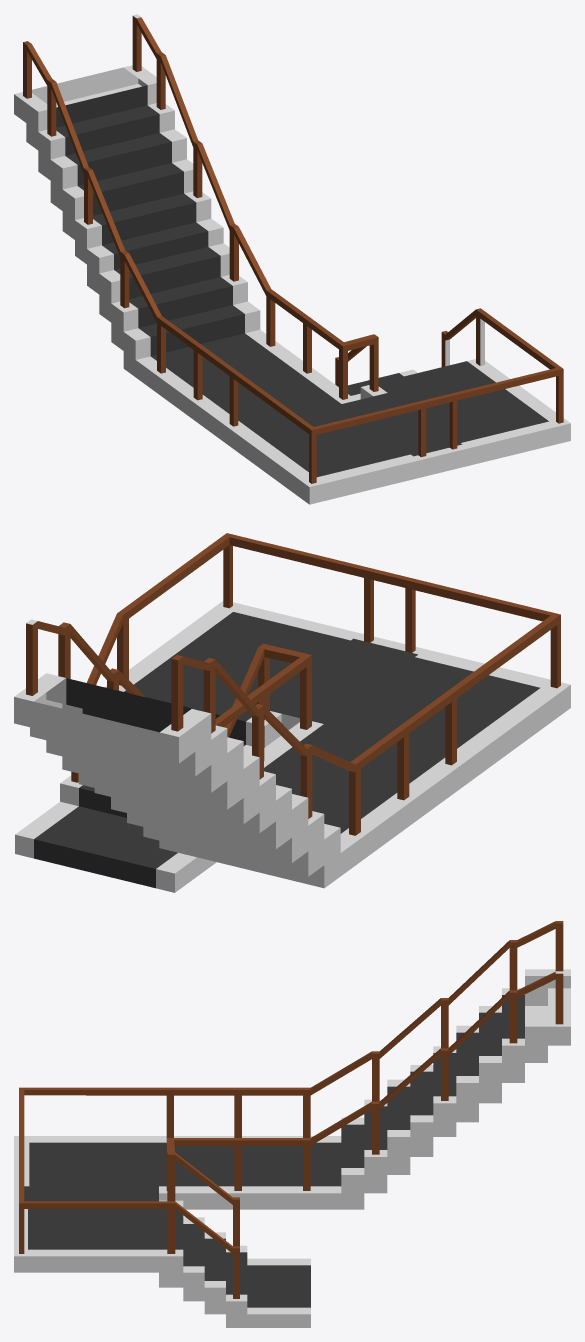
File: StairsV1.fbx
3 renders of one model, top to bottom at view 1: azimuth 30°, elevation 25°; view 2: azimuth 150°, elevation 25°; view 3: azimuth 270°, elevation 25°, orthographic. The views are drawn at different scales.
Parts seen in each view (by area): view 1: Cube; view 2: Cube; view 3: Cube.
Part boxes in pixels (x1,y1,x2,y2): Cube: (14, 14, 570, 504); Cube: (14, 533, 570, 892); Cube: (14, 921, 570, 1327).
Bounding box in the file's own units: 1160 × 1299 × 2271.
